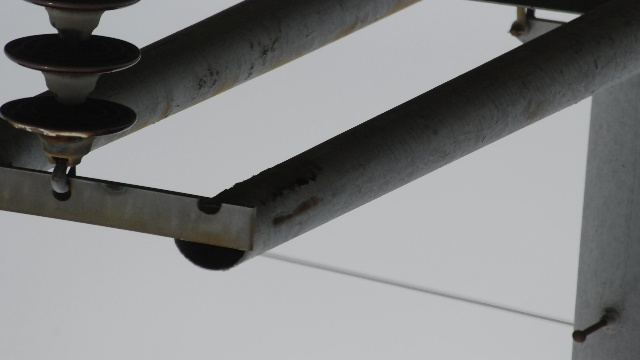insulator_unspecified: (0, 1, 142, 141)
pollution_flashover_local: (8, 120, 90, 140)
